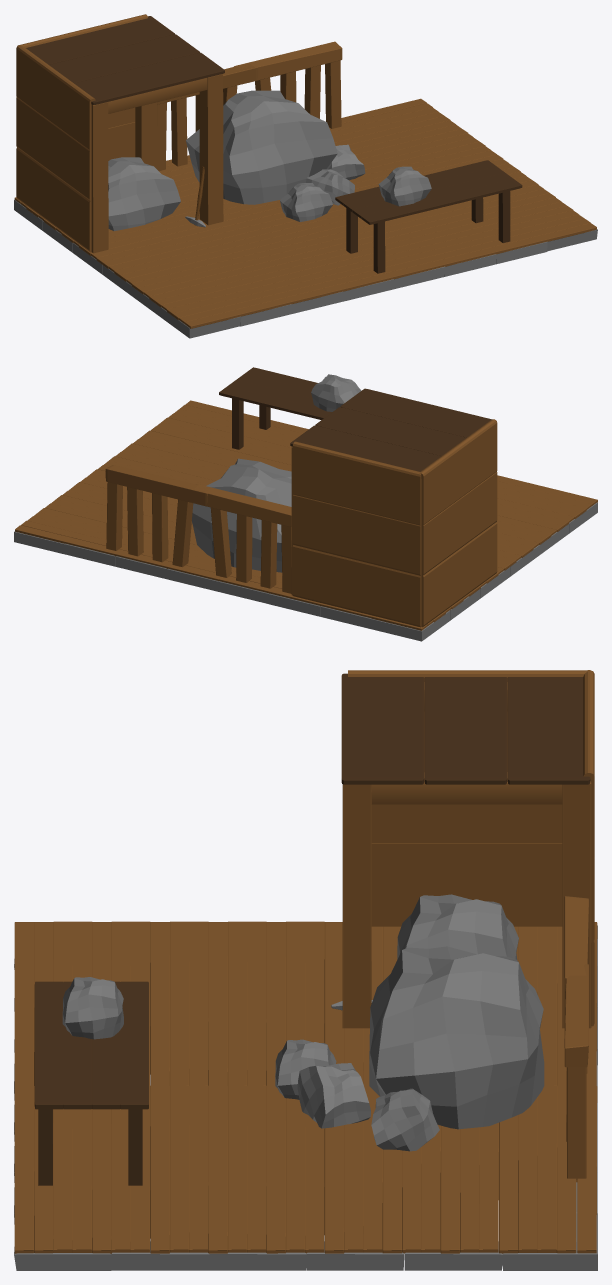
File: SM_StoneCutter.fbx
The picture shows the model from 3 angles, top to bottom: view 1: azimuth 30°, elevation 25°; view 2: azimuth 150°, elevation 25°; view 3: azimuth 270°, elevation 25°; orthographic projection. The views are drawn at different scales.
Visible parts, largest first — view 1: SM_Stone_Cutter; view 2: SM_Stone_Cutter; view 3: SM_Stone_Cutter.
Part boxes in pixels (x1,y1,x2,y2): SM_Stone_Cutter: (14,14,597,338); SM_Stone_Cutter: (14,367,597,641); SM_Stone_Cutter: (14,670,597,1270).
Size of what is drawn, in the model's own units: 800 by 600 by 315.
